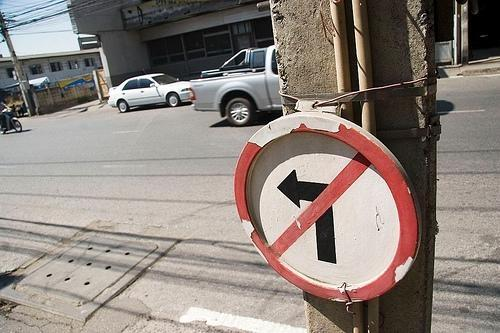car: (107, 73, 191, 112)
motorcycle: (0, 108, 22, 134)
truck: (188, 41, 284, 124)
